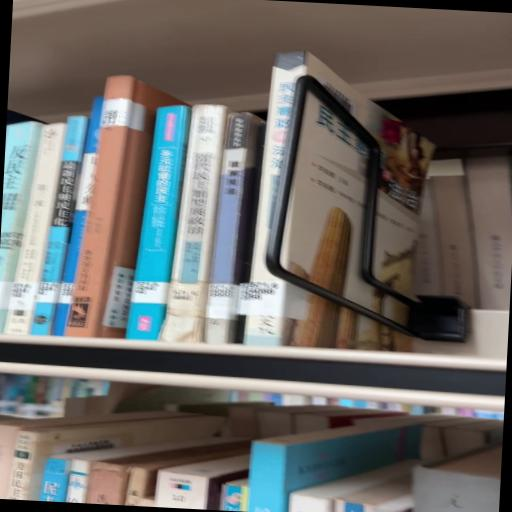reverse: (66, 76, 191, 339)
